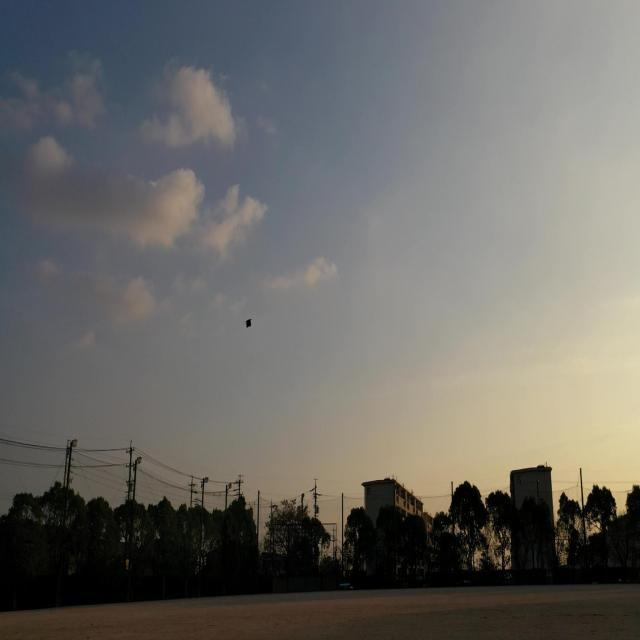Birds: (240, 313, 260, 333)
